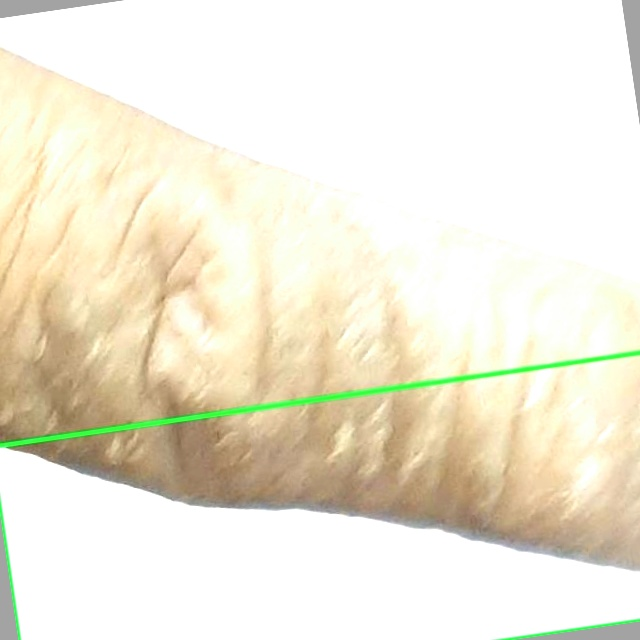Eczema: (0, 352, 639, 639)
